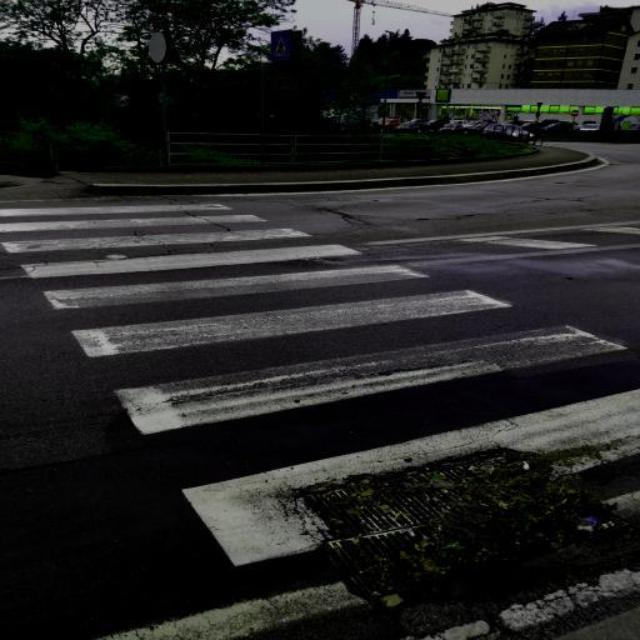sidewalk: (0, 194, 640, 640)
